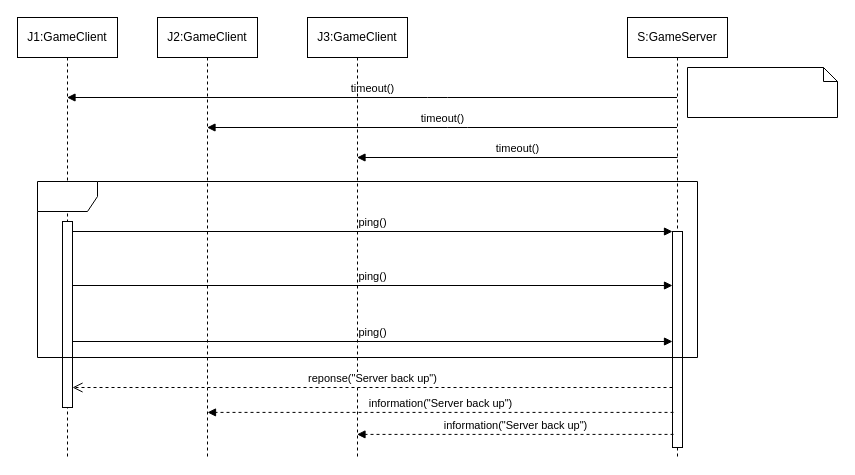
The diagram is 855 pixels wide and 475 high, and some of its shapes have lost their labels. The shapes that lost their labels are listed below. From the top down, each one's box as (x1, y1, x2, y2) in pixels, then its label:
(686, 66, 838, 118): On envoie le timeout d'abord au joueur en train de jouer
(36, 180, 698, 358): Loop
